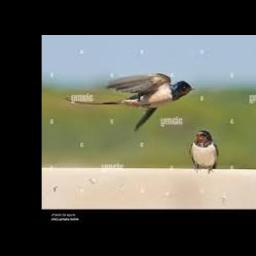Swallow: (65, 74, 193, 132), (190, 130, 218, 172)
